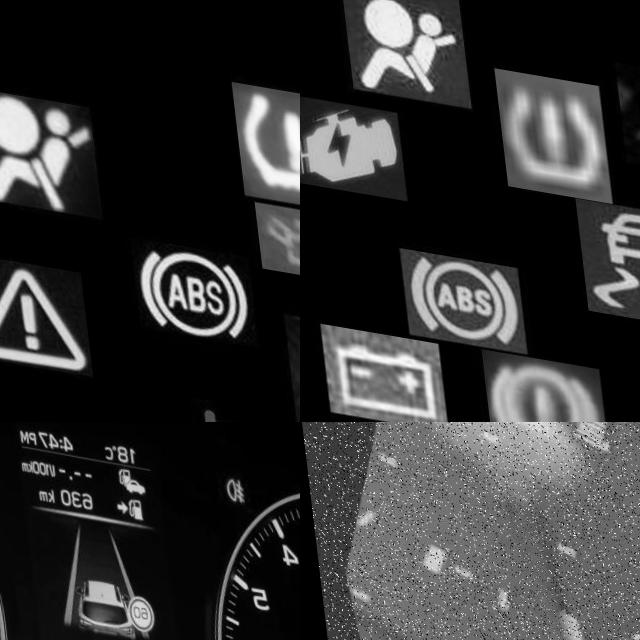Central Warning lamp: (0, 247, 84, 368)
Engine cooling system: (138, 370, 267, 422), (613, 46, 640, 162)
